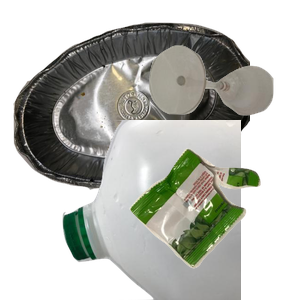glass: (147, 43, 300, 151)
metal: (11, 20, 251, 200)
plastic: (60, 120, 300, 300)
trash: (127, 146, 300, 300)
